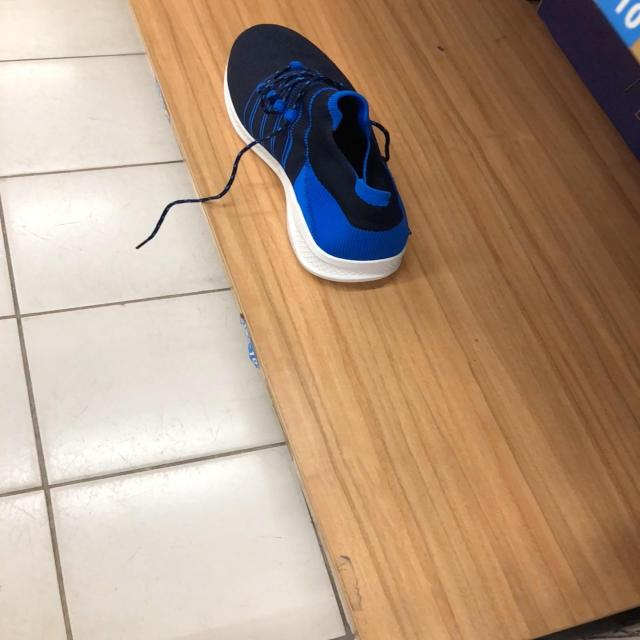shoe: (225, 23, 412, 287)
